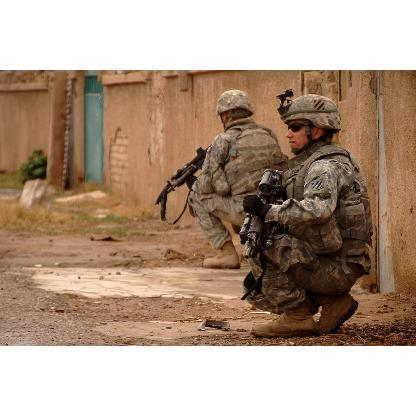gun: (238, 166, 284, 298), (154, 144, 210, 224)
